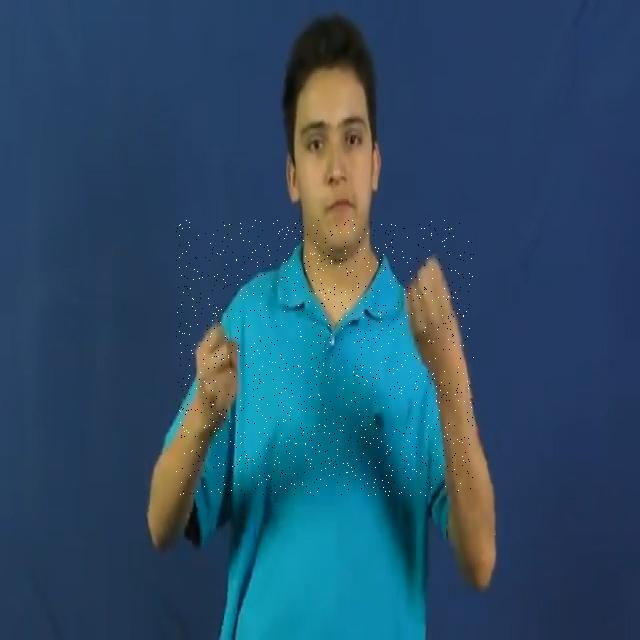drive: (176, 220, 474, 496)
